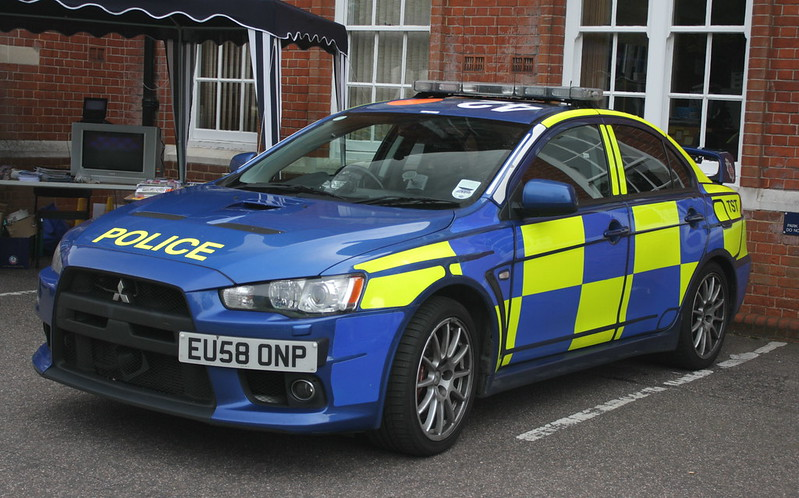car: (32, 89, 755, 458)
